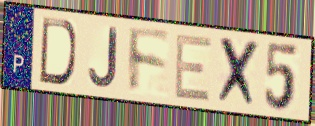5: (263, 42, 302, 114)
D: (37, 15, 78, 88)
E: (172, 32, 214, 105)
F: (126, 24, 172, 96)
J: (87, 25, 119, 90)
X: (214, 34, 262, 112)
